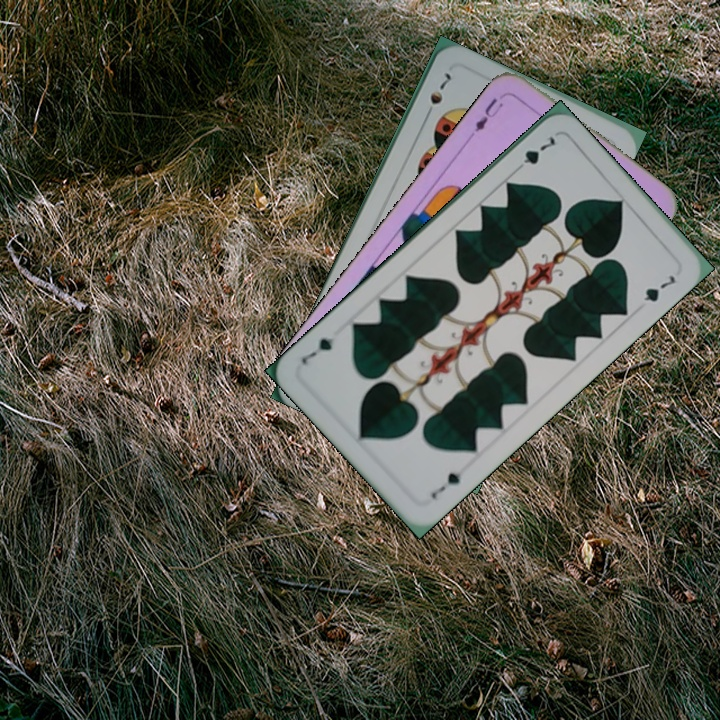EU: (470, 93, 506, 135)
G7: (510, 132, 558, 176), (427, 468, 464, 502)
S7: (421, 69, 454, 122)
